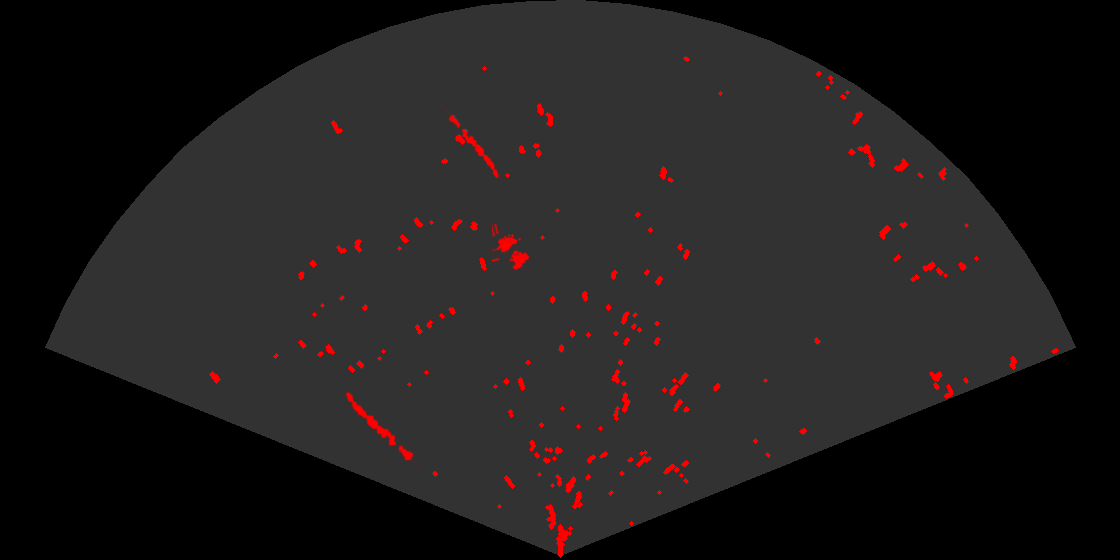cage: (492, 224, 531, 272)
chain: (344, 390, 420, 469), (442, 104, 500, 180)
